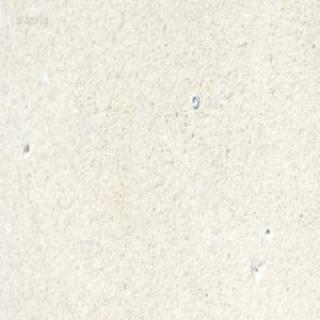Washertrack_idkeyframe: (190, 92, 198, 108)
